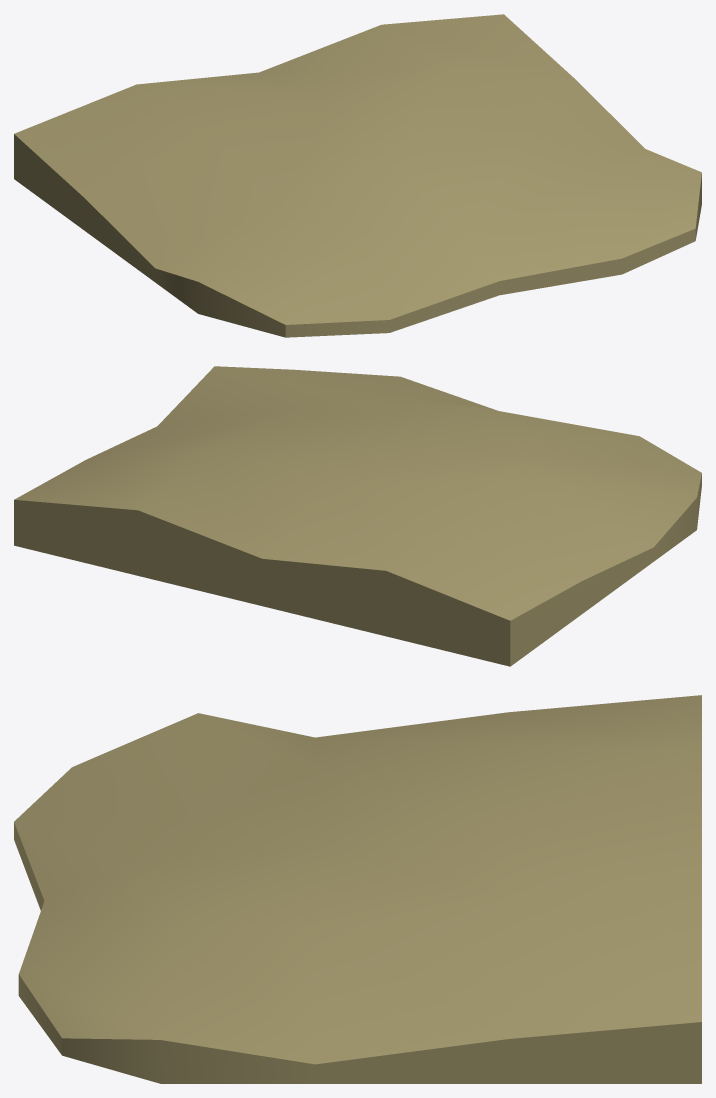
The model's file is sandHalfCubeAngle.fbx.
3 renders of one model, top to bottom at view 1: azimuth 30°, elevation 25°; view 2: azimuth 150°, elevation 25°; view 3: azimuth 270°, elevation 25°, orthographic. The views are drawn at different scales.
Parts seen in each view (by area): view 1: sandHalfTileAngle; view 2: sandHalfTileAngle; view 3: sandHalfTileAngle.
Part boxes in pixels (box(x1,y1,x2,y2)): sandHalfTileAngle: box(14, 14, 701, 337); sandHalfTileAngle: box(14, 366, 701, 666); sandHalfTileAngle: box(14, 695, 701, 1083).
Size of the model in its own units: 100 by 14.14 by 88.94.
